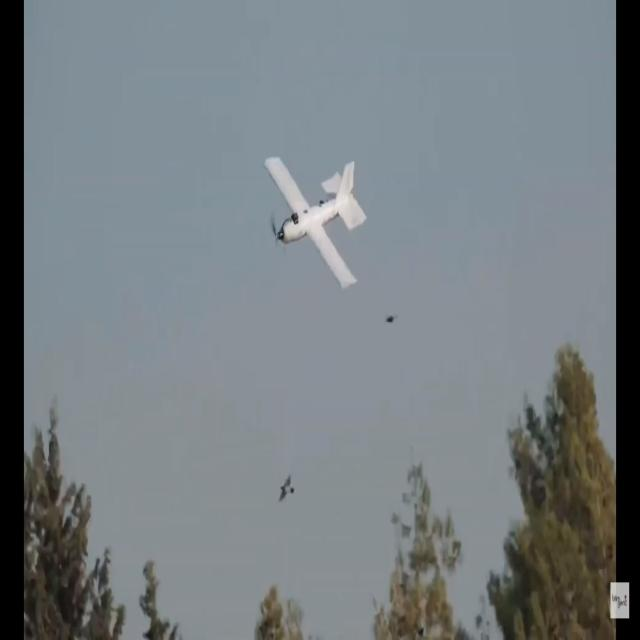iha: (294, 158, 335, 290)
